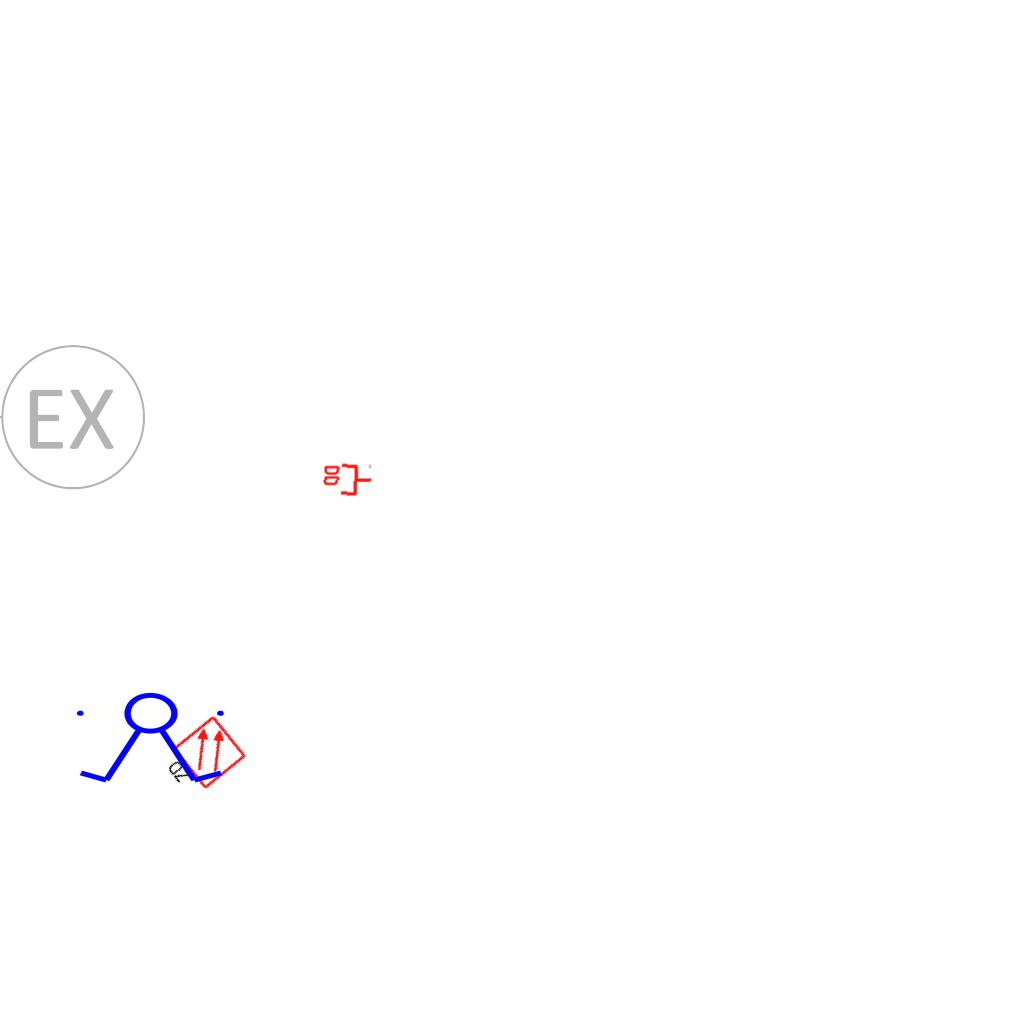Datenanschluss_zweifach: (320, 462, 374, 499)
Serienschalter: (68, 691, 236, 787)
ZD_Melder_in_Zwischendecke_mit_Revisionsoeffnung_mind_40_x_40_cm: (155, 713, 250, 805)
